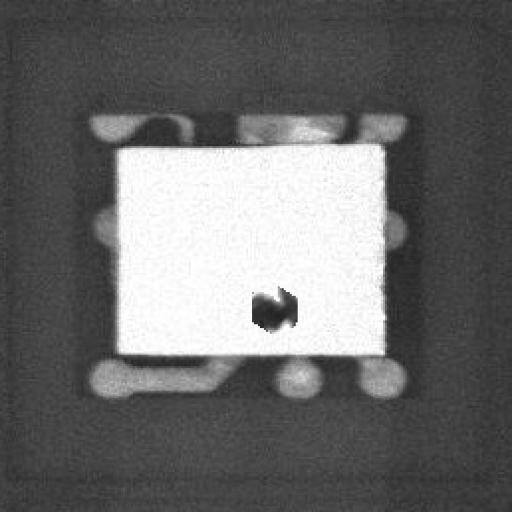DIE_INK: (246, 281, 300, 332)
